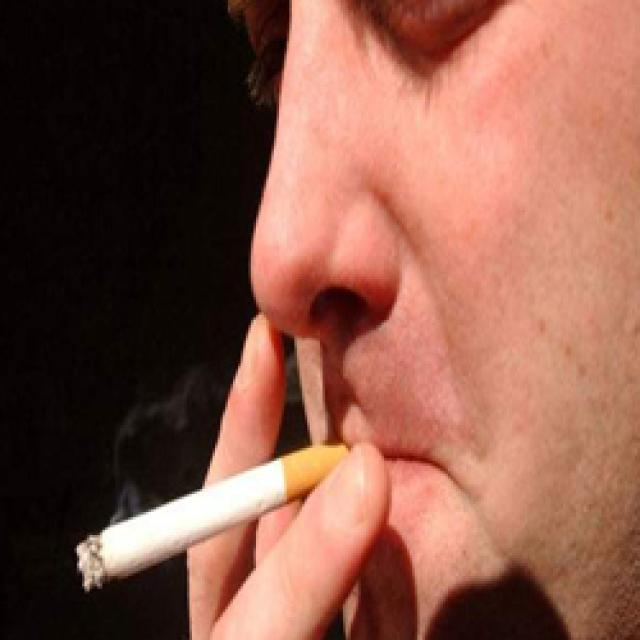Smooking: (21, 444, 394, 594)
